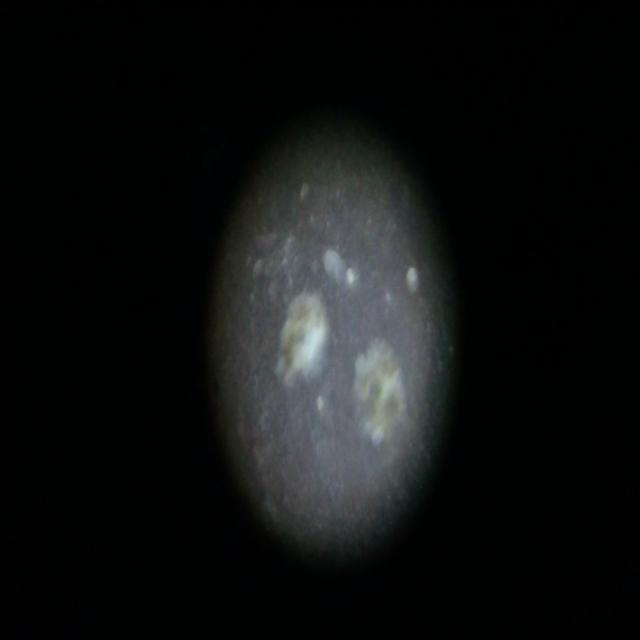alexandrium: (274, 280, 332, 382), (354, 334, 404, 446)
